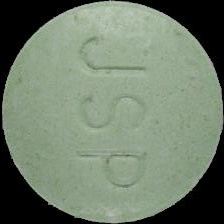0527-1344: (0, 0, 224, 224)
